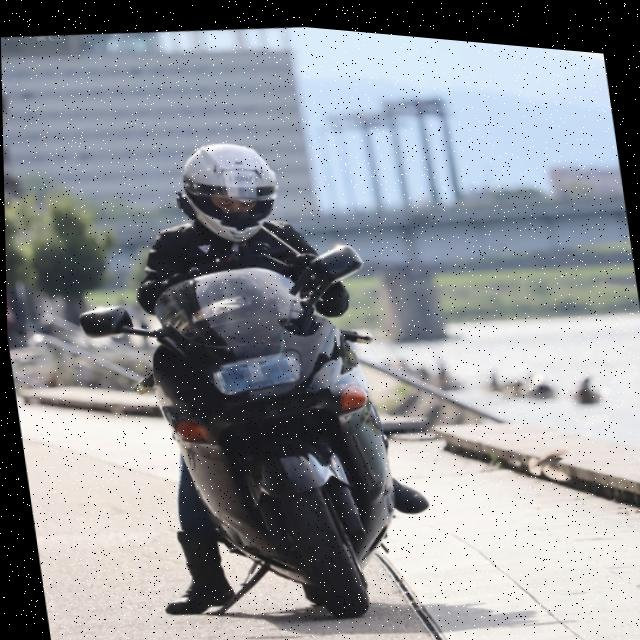helmet: (165, 123, 291, 254)
